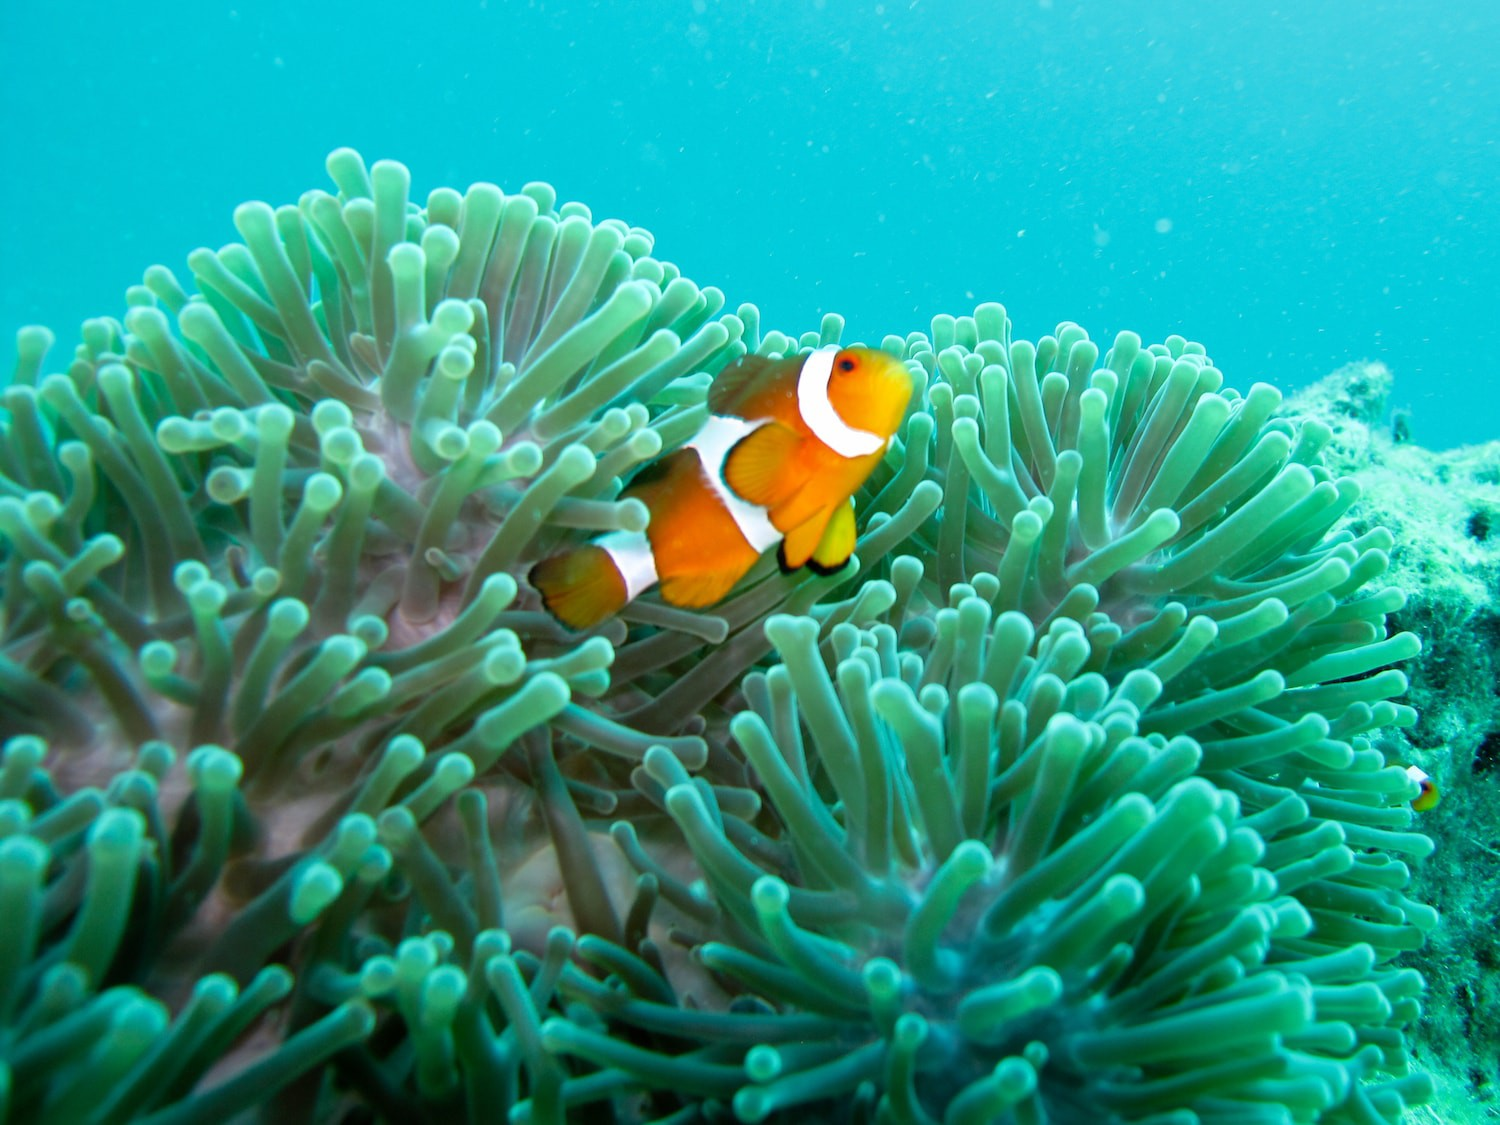fish: (497, 313, 938, 618)
